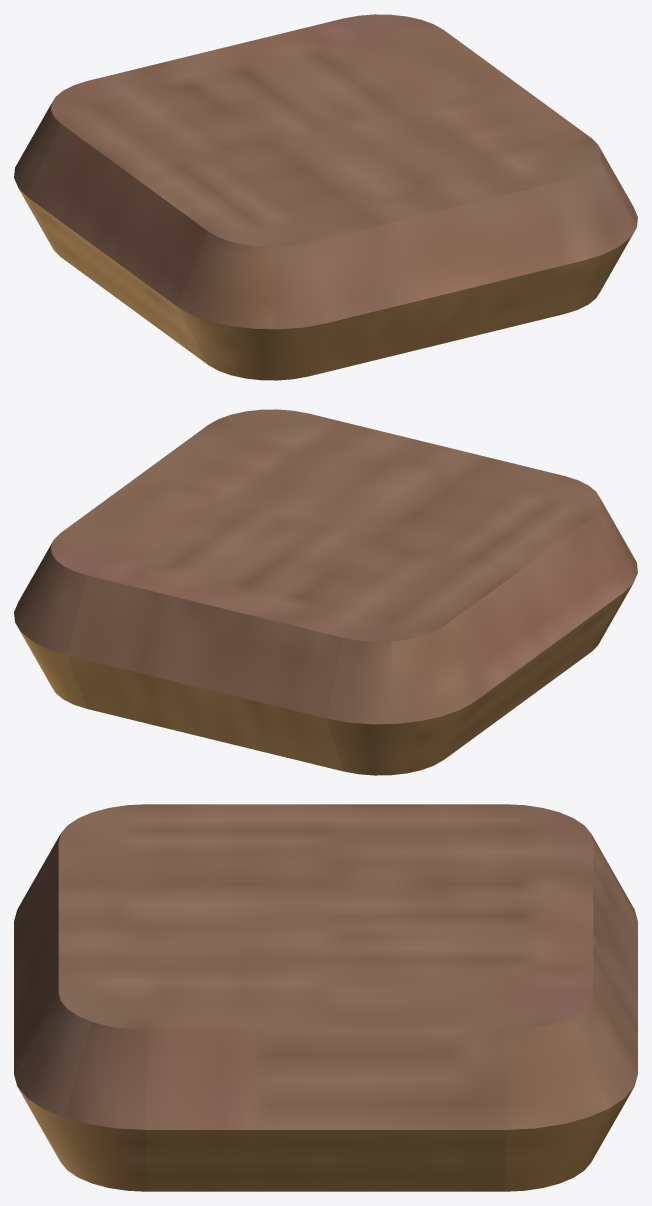
Rendered from GLB.glb.
The picture shows the model from 3 angles, top to bottom: view 1: azimuth 30°, elevation 25°; view 2: azimuth 150°, elevation 25°; view 3: azimuth 270°, elevation 25°; orthographic projection. The views are drawn at different scales.
Parts seen in each view (by area): view 1: Rectangle1, Rectangle0; view 2: Rectangle1, Rectangle0; view 3: Rectangle1, Rectangle0.
Part boxes in pixels (x1,y1,x2,y2): Rectangle1: [14, 14, 637, 329]; Rectangle0: [19, 189, 634, 380]; Rectangle1: [14, 409, 637, 724]; Rectangle0: [17, 584, 632, 775]; Rectangle1: [14, 804, 637, 1129]; Rectangle0: [18, 1087, 633, 1191].
Bounding box in the file's own units: 0.07 × 0.02 × 0.07.
Materials: 2 (2 with a texture image).
